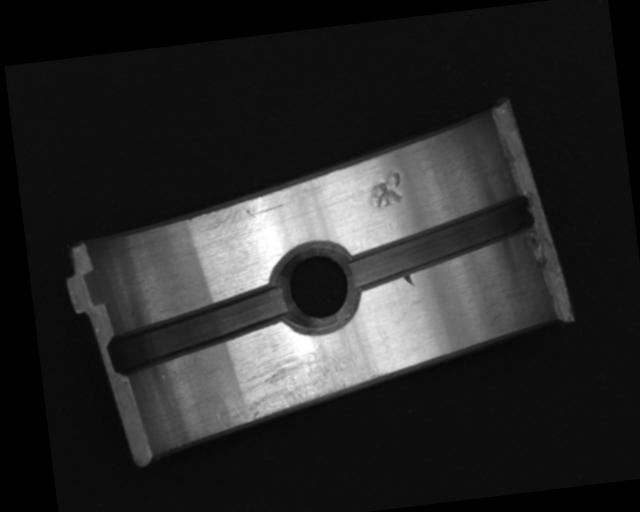bruise: (365, 169, 406, 210), (402, 272, 416, 289)
gap: (344, 196, 542, 290), (102, 281, 292, 375)
hole: (269, 239, 363, 336)
scratch: (208, 334, 382, 434)
